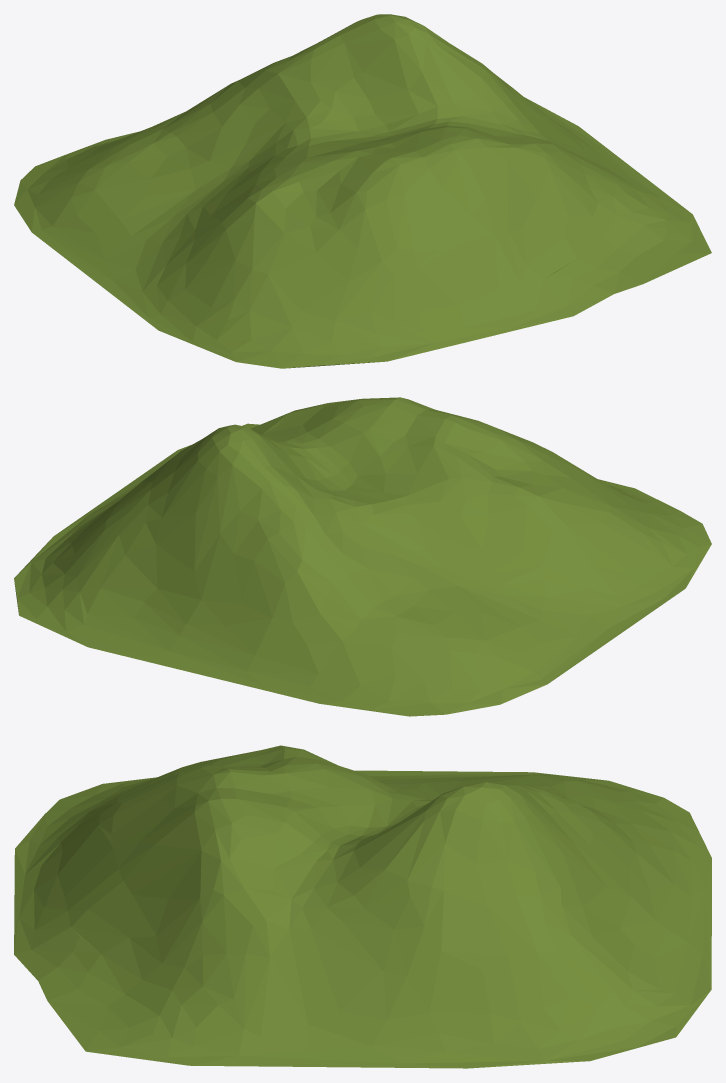
Rendered from TerrainGrass_4.fbx.
3 views of the same model, one above another, from view 1: azimuth 30°, elevation 25°; view 2: azimuth 150°, elevation 25°; view 3: azimuth 270°, elevation 25° (orthographic). The views are drawn at different scales.
Parts seen in each view (by area): view 1: TerrainGrass_4; view 2: TerrainGrass_4; view 3: TerrainGrass_4.
Part boxes in pixels (x1=…): TerrainGrass_4: x1=14, y1=14, x2=711, y2=368; TerrainGrass_4: x1=14, y1=397, x2=711, y2=716; TerrainGrass_4: x1=14, y1=745, x2=711, y2=1068.
Bounding box in the file's own units: 1940 × 535 × 1911.
